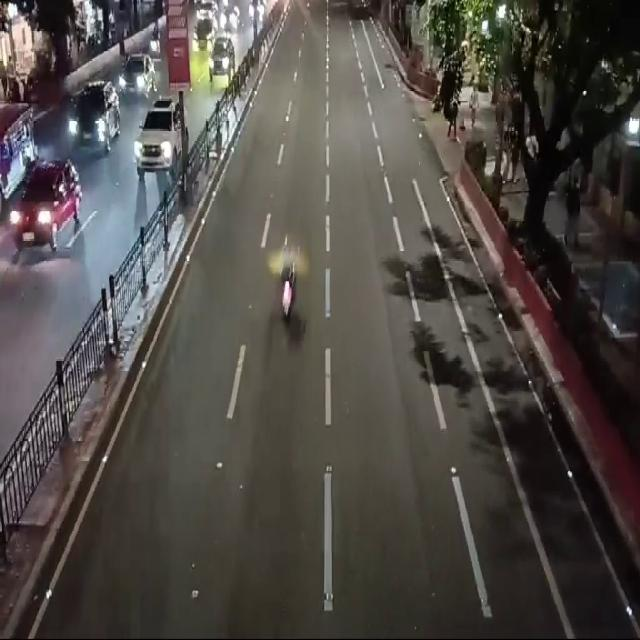car: (6, 154, 94, 272), (62, 74, 126, 160), (133, 95, 189, 184), (201, 35, 245, 90), (120, 45, 158, 108)
motorcycle: (274, 243, 308, 334)
